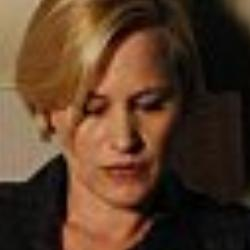face: (11, 2, 218, 210)
